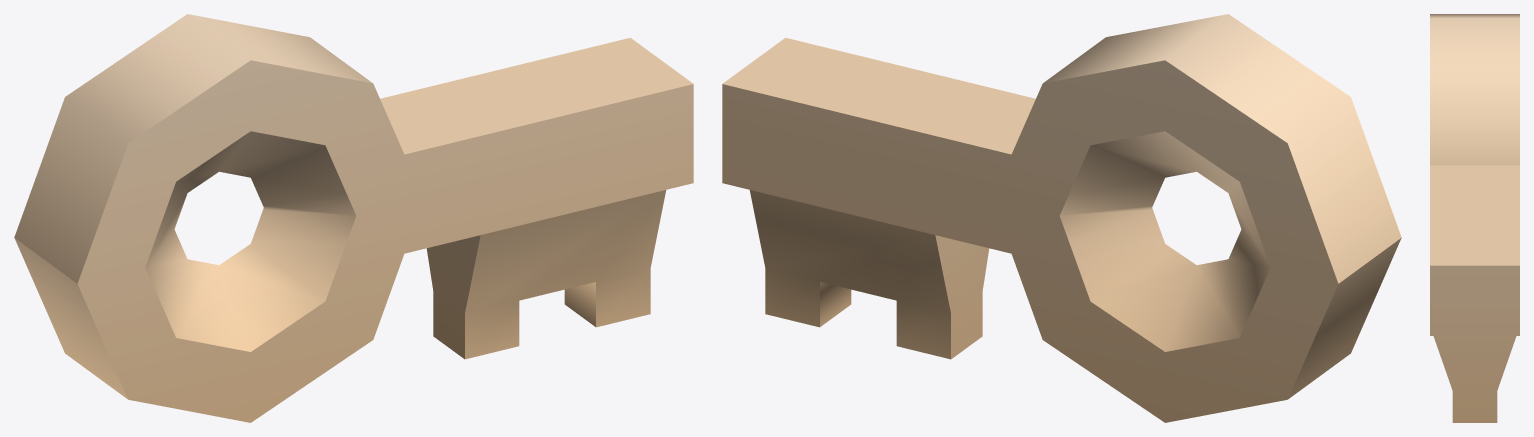
The model's file is key.glb.
3 views of the same model, side by side, from view 1: azimuth 30°, elevation 25°; view 2: azimuth 150°, elevation 25°; view 3: azimuth 270°, elevation 25° (orthographic). The views are drawn at different scales.
Visible parts, largest first — view 1: key; view 2: key; view 3: key.
Part boxes in pixels (<box>): key: <box>14,14,693,422</box>; key: <box>722,14,1401,422</box>; key: <box>1430,14,1519,422</box>.
Size of the model in its own units: 0.3817 by 0.2172 by 0.0679.
